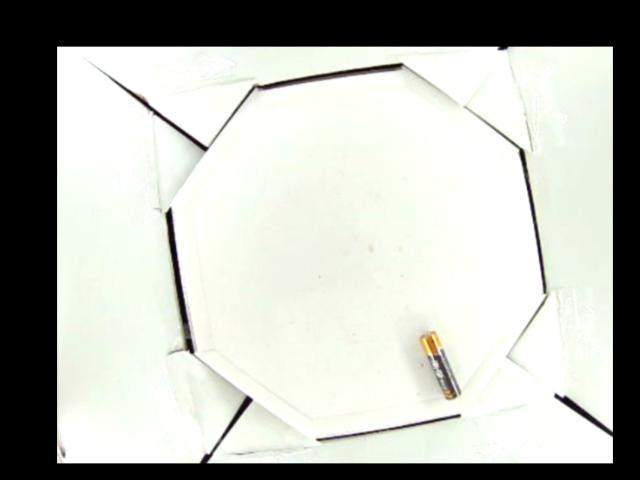Battery: (420, 332, 460, 402)
